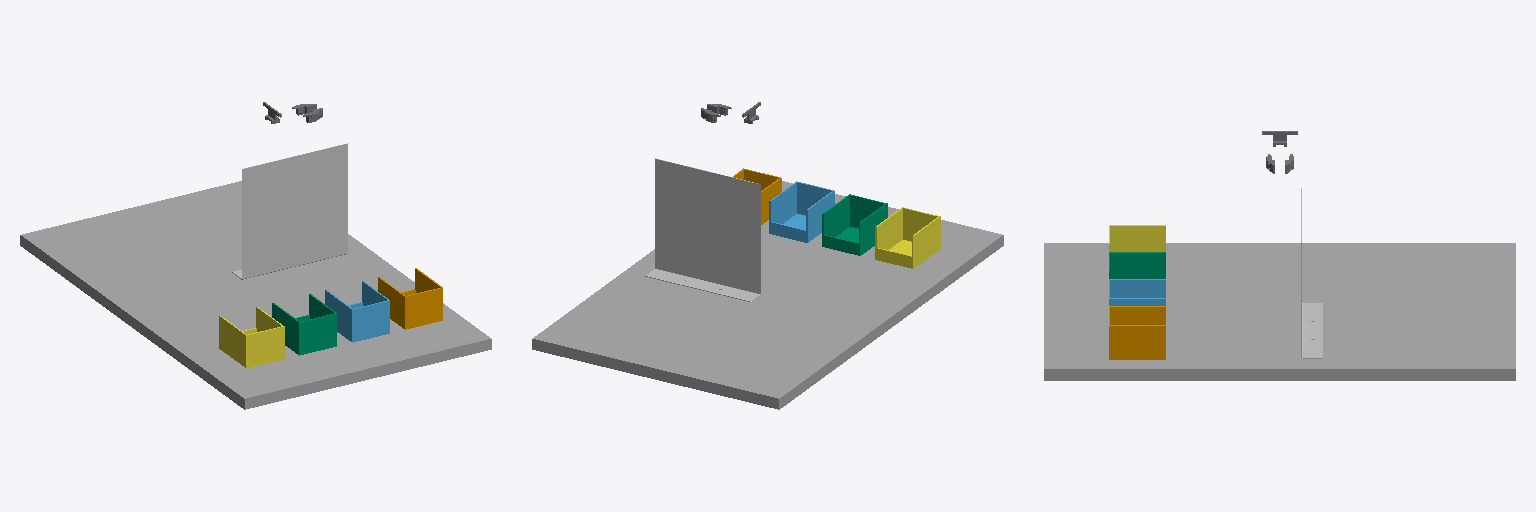
The robot description file, URDF, robot "niryo_ned2":
<?xml version="1.0" encoding="utf-8"?>
<!-- =================================================================================== -->
<!-- |    This document was autogenerated by xacro from niryo_ned2_robot.urdf.xacro    | -->
<!-- |    EDITING THIS FILE BY HAND IS NOT RECOMMENDED                                 | -->
<!-- =================================================================================== -->
<robot name="niryo_ned2">
  <transmission name="transmission_1">
    <type>transmission_interface/SimpleTransmission</type>
    <joint name="joint_1">
      <hardwareInterface>hardware_interface/PositionJointInterface</hardwareInterface>
    </joint>
    <actuator name="motor_1">
      <mechanicalReduction>1</mechanicalReduction>
    </actuator>
  </transmission>
  <transmission name="transmission_2">
    <type>transmission_interface/SimpleTransmission</type>
    <joint name="joint_2">
      <hardwareInterface>hardware_interface/PositionJointInterface</hardwareInterface>
    </joint>
    <actuator name="motor_2">
      <mechanicalReduction>1</mechanicalReduction>
    </actuator>
  </transmission>
  <transmission name="transmission_3">
    <type>transmission_interface/SimpleTransmission</type>
    <joint name="joint_3">
      <hardwareInterface>hardware_interface/PositionJointInterface</hardwareInterface>
    </joint>
    <actuator name="motor_3">
      <mechanicalReduction>1</mechanicalReduction>
    </actuator>
  </transmission>
  <transmission name="transmission_4">
    <type>transmission_interface/SimpleTransmission</type>
    <joint name="joint_4">
      <hardwareInterface>hardware_interface/PositionJointInterface</hardwareInterface>
    </joint>
    <actuator name="motor_4">
      <mechanicalReduction>1</mechanicalReduction>
    </actuator>
  </transmission>
  <transmission name="transmission_5">
    <type>transmission_interface/SimpleTransmission</type>
    <joint name="joint_5">
      <hardwareInterface>hardware_interface/PositionJointInterface</hardwareInterface>
    </joint>
    <actuator name="motor_5">
      <mechanicalReduction>1</mechanicalReduction>
    </actuator>
  </transmission>
  <transmission name="transmission_6">
    <type>transmission_interface/SimpleTransmission</type>
    <joint name="joint_6">
      <hardwareInterface>hardware_interface/PositionJointInterface</hardwareInterface>
    </joint>
    <actuator name="motor_6">
      <mechanicalReduction>1</mechanicalReduction>
    </actuator>
  </transmission>
  <transmission name="transmission_7">
    <type>transmission_interface/SimpleTransmission</type>
    <joint name="joint_base_to_mors_1">
      <hardwareInterface>hardware_interface/EffortJointInterface</hardwareInterface>
    </joint>
    <actuator name="motor_7">
      <mechanicalReduction>1</mechanicalReduction>
    </actuator>
  </transmission>
  <transmission name="transmission_8">
    <type>transmission_interface/SimpleTransmission</type>
    <joint name="joint_base_to_mors_2">
      <hardwareInterface>hardware_interface/EffortJointInterface</hardwareInterface>
    </joint>
    <actuator name="motor_8">
      <mechanicalReduction>1</mechanicalReduction>
    </actuator>
  </transmission>
  <link name="bakje_1">
    <inertial>
      <origin rpy="0 0 0" xyz="0 0 0"/>
      <mass value="0.01"/>
      <inertia ixx="0.00055187" ixy="0.0" ixz="0.0" iyy="0.00073447" iyz="0.0" izz="0.00049414"/>
    </inertial>
    <collision>
      <origin rpy="0 0 0" xyz="0 0 0"/>
      <geometry>
        <mesh filename="package://my_niryo_robot_description/meshes/bakje_colision.stl"/>
      </geometry>
    </collision>
    <visual>
      <origin rpy="0.0 0 0" xyz="0 0 0"/>
      <geometry>
        <mesh filename="package://my_niryo_robot_description/meshes/bakje.dae"/>
      </geometry>
    </visual>
  </link>
  <gazebo reference="bakje_1">
    <mu1>10.0</mu1>
    <mu2>10.0</mu2>
  </gazebo>
  <joint name="bakje_1_joint" type="fixed">
    <parent link="baseplate_link"/>
    <child link="bakje_1"/>
    <origin rpy="0.0 0.0 1.57079632679" xyz="-0.4 -0.3 0.015"/>
  </joint>
  <link name="bakje_2">
    <inertial>
      <origin rpy="0 0 0" xyz="0 0 0"/>
      <mass value="0.01"/>
      <inertia ixx="0.00055187" ixy="0.0" ixz="0.0" iyy="0.00073447" iyz="0.0" izz="0.00049414"/>
    </inertial>
    <collision>
      <origin rpy="0 0 0" xyz="0 0 0"/>
      <geometry>
        <mesh filename="package://my_niryo_robot_description/meshes/bakje_colision.stl"/>
      </geometry>
    </collision>
    <visual>
      <origin rpy="0.0 0 0" xyz="0 0 0"/>
      <geometry>
        <mesh filename="package://my_niryo_robot_description/meshes/bakje.dae"/>
      </geometry>
    </visual>
  </link>
  <gazebo reference="bakje_2">
    <mu1>10.0</mu1>
    <mu2>10.0</mu2>
  </gazebo>
  <joint name="bakje_2_joint" type="fixed">
    <parent link="baseplate_link"/>
    <child link="bakje_2"/>
    <origin rpy="0.0 0.0 1.57079632679" xyz="-0.4 -0.15 0.015"/>
  </joint>
  <link name="bakje_3">
    <inertial>
      <origin rpy="0 0 0" xyz="0 0 0"/>
      <mass value="0.01"/>
      <inertia ixx="0.00055187" ixy="0.0" ixz="0.0" iyy="0.00073447" iyz="0.0" izz="0.00049414"/>
    </inertial>
    <collision>
      <origin rpy="0 0 0" xyz="0 0 0"/>
      <geometry>
        <mesh filename="package://my_niryo_robot_description/meshes/bakje_colision.stl"/>
      </geometry>
    </collision>
    <visual>
      <origin rpy="0.0 0 0" xyz="0 0 0"/>
      <geometry>
        <mesh filename="package://my_niryo_robot_description/meshes/bakje.dae"/>
      </geometry>
    </visual>
  </link>
  <gazebo reference="bakje_3">
    <mu1>10.0</mu1>
    <mu2>10.0</mu2>
  </gazebo>
  <joint name="bakje_3_joint" type="fixed">
    <parent link="baseplate_link"/>
    <child link="bakje_3"/>
    <origin rpy="0.0 0.0 1.57079632679" xyz="-0.4 0 0.015"/>
  </joint>
  <link name="bakje_4">
    <inertial>
      <origin rpy="0 0 0" xyz="0 0 0"/>
      <mass value="0.01"/>
      <inertia ixx="0.00055187" ixy="0.0" ixz="0.0" iyy="0.00073447" iyz="0.0" izz="0.00049414"/>
    </inertial>
    <collision>
      <origin rpy="0 0 0" xyz="0 0 0"/>
      <geometry>
        <mesh filename="package://my_niryo_robot_description/meshes/bakje_colision.stl"/>
      </geometry>
    </collision>
    <visual>
      <origin rpy="0.0 0 0" xyz="0 0 0"/>
      <geometry>
        <mesh filename="package://my_niryo_robot_description/meshes/bakje.dae"/>
      </geometry>
    </visual>
  </link>
  <gazebo reference="bakje_4">
    <mu1>10.0</mu1>
    <mu2>10.0</mu2>
  </gazebo>
  <joint name="bakje_4_joint" type="fixed">
    <parent link="baseplate_link"/>
    <child link="bakje_4"/>
    <origin rpy="0.0 0.0 1.57079632679" xyz="-0.4 0.15 0.015"/>
  </joint>
  <link name="camera_holder">
    <inertial>
      <origin rpy="0 0 0" xyz="0.0 0.0 0.0"/>
      <mass value="0.01"/>
      <inertia ixx="0.00000147" ixy="0.0" ixz="0.0" iyy="0.00000282" iyz="0.0" izz="0.00000387"/>
    </inertial>
    <visual>
      <origin rpy="0 0 0" xyz="0 0 0"/>
      <geometry>
        <mesh filename="package://my_niryo_robot_description/meshes/cameraHouder.dae"/>
      </geometry>
      <material name="">
        <color rgba="0.49804 0.49804 0.49804 1"/>
      </material>
    </visual>
    <collision>
      <origin rpy="0 0 0" xyz="0 0 0"/>
      <geometry>
        <mesh filename="package://my_niryo_robot_description/meshes/cameraHouder_colision.stl"/>
      </geometry>
    </collision>
  </link>
  <link name="camera">
    <inertial>
      <origin rpy="0 0 0" xyz="0.0 0.0 0.0"/>
      <mass value="0.01"/>
      <inertia ixx="0.00000147" ixy="0.0" ixz="0.0" iyy="0.00000282" iyz="0.0" izz="0.00000387"/>
    </inertial>
    <visual>
      <origin rpy="0 0 0" xyz="0 0 0"/>
      <geometry>
        <mesh filename="package://my_niryo_robot_description/meshes/OAK-D.stl"/>
      </geometry>
      <material name="">
        <color rgba="0.49804 0.49804 0.49804 1"/>
      </material>
    </visual>
    <collision>
      <origin rpy="0 0 0" xyz="0 0 0"/>
      <geometry>
        <mesh filename="package://my_niryo_robot_description/meshes/OAK-D.stl"/>
      </geometry>
    </collision>
  </link>
  <!-- Joint from tool_link to base_gripper -->
  <joint name="wrist_to_camera_holder" type="fixed">
    <parent link="wrist_link"/>
    <child link="camera_holder"/>
    <origin rpy="1.57079632679 -1.57079632679 0" xyz="0 0.017 0"/>
  </joint>
  <joint name="holder_to_camera" type="fixed">
    <parent link="camera_holder"/>
    <child link="camera"/>
    <origin rpy="1.57079632679 0 0" xyz="0 -0.0355 -0.025"/>
  </joint>
  <!-- material -->
  <gazebo reference="camera_holder">
    <material>Gazebo/DarkGrey</material>
  </gazebo>
  <!-- Base Gripper -->
  <link name="base_gripper_1">
    <inertial>
      <origin rpy="0 0 0" xyz="0 0 0"/>
      <mass value="0.01"/>
      <inertia ixx="0.00862940" ixy="0.0" ixz="0.0" iyy="0.02072169" iyz="0.0" izz="0.02327580"/>
    </inertial>
    <visual>
      <origin rpy="0 0 0" xyz="0 0 0"/>
      <geometry>
        <mesh filename="package://my_niryo_robot_description/meshes/gripper_base.dae"/>
      </geometry>
    </visual>
    <collision>
      <origin rpy="0 0 0" xyz="0 0 0"/>
      <geometry>
        <mesh filename="package://my_niryo_robot_description/meshes/grippe_base_colision.stl"/>
      </geometry>
    </collision>
  </link>
  <!-- Joint from tool_link to base_gripper -->
  <joint name="joint_to_gripper" type="fixed">
    <parent link="tool_link"/>
    <child link="base_gripper_1"/>
    <origin rpy="0 3.14159265359 -1.57079632679" xyz="-0.016 0 0"/>
  </joint>
  <!-- klep 1 -->
  <link name="mors_1">
    <inertial>
      <origin rpy="0 0 0" xyz="0 0 0"/>
      <mass value="0.01335241"/>
      <inertia ixx="0.00000297" ixy="0.00000068" ixz="0.00000002" iyy="0.00000099" iyz="0.00000010" izz="0.00000282"/>
    </inertial>
    <visual>
      <origin rpy="0 0 0" xyz="0 0 0"/>
      <geometry>
        <mesh filename="package://my_niryo_robot_description/meshes/gripper_left.dae"/>
      </geometry>
      <material name="">
        <color rgba="0.49804 0.49804 0.49804 1"/>
      </material>
    </visual>
    <collision>
      <origin rpy="0 0 0" xyz="0 0 0"/>
      <geometry>
        <mesh filename="package://my_niryo_robot_description/meshes/grippe_left_colision.stl"/>
      </geometry>
    </collision>
  </link>
  <joint name="joint_base_to_mors_1" type="fixed">
    <origin rpy="0 0 0" xyz="-0.0265 0.0425 -0.008"/>
    <parent link="base_gripper_1"/>
    <child link="mors_1"/>
    <!-- <axis xyz="1 0 0"/>
        <limit lower="0"
               upper="0.01"
               effort="1"
               velocity="5"/> -->
  </joint>
  <!-- klep 2 -->
  <link name="mors_2">
    <inertial>
      <origin rpy="0 0 0" xyz="0 0 0"/>
      <mass value="0.01335241"/>
      <inertia ixx="0.00000297" ixy="0.00000068" ixz="0.00000002" iyy="0.00000099" iyz="0.00000010" izz="0.00000282"/>
    </inertial>
    <visual>
      <origin rpy="0 0 0" xyz="0 0 0"/>
      <geometry>
        <mesh filename="package://my_niryo_robot_description/meshes/gripper_right.dae"/>
      </geometry>
      <material name="">
        <color rgba="0.49804 0.49804 0.49804 1"/>
      </material>
    </visual>
    <collision>
      <origin rpy="0 0 0" xyz="0 0 0"/>
      <geometry>
        <mesh filename="package://my_niryo_robot_description/meshes/grippe_right_colision.stl"/>
      </geometry>
    </collision>
  </link>
  <joint name="joint_base_to_mors_2" type="fixed">
    <origin rpy="0 0 0" xyz="0.0255 0.044 -0.008"/>
    <parent link="base_gripper_1"/>
    <child link="mors_2"/>
    <!-- <axis xyz="1 0 0"/>
        <limit lower="-0.01"
               upper="0"
               effort="1"
               velocity="5"/> -->
  </joint>
  <!-- material -->
  <gazebo reference="base_gripper_1">
    <material>Gazebo/DarkGrey</material>
  </gazebo>
  <gazebo reference="mors_1">
    <material>Gazebo/DarkGrey</material>
  </gazebo>
  <gazebo reference="mors_2">
    <material>Gazebo/DarkGrey</material>
  </gazebo>
  <link name="schot">
    <inertial>
      <origin rpy="0 0 0" xyz="0 0 0"/>
      <mass value="0.01"/>
      <inertia ixx="7.58333333333e-05" ixy="0.0" ixz="0.0" iyy="0.00015000000000000001" iyz="0.0" izz="7.50208333333"/>
    </inertial>
    <collision>
      <origin rpy="0 0 0" xyz="0 0 0"/>
      <geometry>
        <mesh filename="package://my_niryo_robot_description/meshes/schot_colision.stl"/>
      </geometry>
    </collision>
    <visual>
      <origin rpy="0.0 0 0" xyz="0 0 0"/>
      <geometry>
        <mesh filename="package://my_niryo_robot_description/meshes/schotv2.dae"/>
      </geometry>
    </visual>
  </link>
  <gazebo reference="schot">
    <mu1>10.0</mu1>
    <mu2>10.0</mu2>
  </gazebo>
  <joint name="fixed" type="fixed">
    <parent link="baseplate_link"/>
    <child link="schot"/>
    <origin rpy="0 0 1.57079632679" xyz="0.1 -0.14 0.015"/>
  </joint>
  <!-- Properties -->
  <!-- Links -->
  <!--
    <link name="world"/>
-->
  <link name="base_link">
    <inertial>
      <origin rpy="0 0 0" xyz="-0.008924 0.0001357 0.052392"/>
      <mass value="0.71142"/>
      <inertia ixx="0.0017" ixy="0.0" ixz="0.0" iyy="0.0017" iyz="0.0" izz="0.0032"/>
    </inertial>
    <visual>
      <origin rpy="0 0 0" xyz="0 0 0"/>
      <geometry>
        <mesh filename="package://niryo_robot_description/meshes/ned2/collada/base_link.dae"/>
      </geometry>
    </visual>
    <collision>
      <origin rpy="-1.5707963268 0 0" xyz="0 0 0"/>
      <geometry>
        <mesh filename="package://niryo_robot_description/meshes/ned2/stl/base_link.stl"/>
      </geometry>
    </collision>
  </link>
  <link name="led_ring_link">
    <!--
        <visual>
            <origin xyz="0 0 0"
                    rpy="0 0 0"/>
            <geometry>
                <cylinder length="0.0019" radius="0.0775"/>
            </geometry>
            <material
                    name="">
                <color
                        rgba="1 1 1 0.25"/>
            </material>
        </visual> -->
  </link>
  <link name="shoulder_link">
    <inertial>
      <origin rpy="0 0 0" xyz="-0.031951 0.0080419 0.030675"/>
      <mass value="0.35056"/>
      <inertia ixx="0.00023875" ixy="2.3853E-08" ixz="2.0596E-06" iyy="0.00032638" iyz="-8.9319E-07" izz="0.00030089"/>
    </inertial>
    <visual>
      <origin rpy="0 0 0" xyz="0 0 0"/>
      <geometry>
        <mesh filename="package://niryo_robot_description/meshes/ned2/collada/shoulder_link.dae"/>
      </geometry>
    </visual>
    <collision>
      <origin rpy="0 0 0" xyz="0 0 0"/>
      <geometry>
        <mesh filename="package://niryo_robot_description/meshes/ned2/stl/shoulder_link.stl"/>
      </geometry>
    </collision>
  </link>
  <link name="arm_link">
    <inertial>
      <origin rpy="0 3.14159265359 0" xyz="-0.00096976 0.086432 0.0038832"/>
      <mass value="1.0838"/>
      <inertia ixx="0.008194" ixy="0.00015602" ixz="-3.434E-06" iyy="0.0011945" iyz="-0.00031298" izz="0.007915"/>
    </inertial>
    <visual>
      <origin rpy="0 3.14159265359 0" xyz="0 0 0"/>
      <geometry>
        <mesh filename="package://niryo_robot_description/meshes/ned2/collada/arm_link.dae"/>
      </geometry>
    </visual>
    <collision>
      <origin rpy="0 3.14159265359 0" xyz="0 0 0"/>
      <geometry>
        <mesh filename="package://niryo_robot_description/meshes/ned2/stl/arm_link.stl"/>
      </geometry>
    </collision>
  </link>
  <link name="elbow_link">
    <inertial>
      <origin rpy="0 3.14159265359 0" xyz="-0.019703 0.037336 -1.7431E-09"/>
      <mass value="0.22126"/>
      <inertia ixx="0.00011754" ixy="-1.2314E-05" ixz="-6.2064E-11" iyy="0.00020851" iyz="9.2393E-11" izz="0.00022753"/>
    </inertial>
    <visual>
      <origin rpy="0 3.14159265359 0" xyz="0 0 0"/>
      <geometry>
        <mesh filename="package://niryo_robot_description/meshes/ned2/collada/elbow_link.dae"/>
      </geometry>
    </visual>
    <collision>
      <origin rpy="0 3.14159265359 0" xyz="0 0 0"/>
      <geometry>
        <mesh filename="package://niryo_robot_description/meshes/ned2/stl/elbow_link.stl"/>
      </geometry>
    </collision>
  </link>
  <link name="forearm_link">
    <inertial>
      <origin rpy="0 0 0" xyz="-0.0049532 7.8351E-06 0.08106"/>
      <mass value="0.35686"/>
      <inertia ixx="0.0013664" ixy="-9.6367E-08" ixz="0.00013594" iyy="0.0014781" iyz="-1.4596E-07" izz="0.00023715"/>
    </inertial>
    <visual>
      <origin rpy="0 0 0" xyz="0 0 0"/>
      <geometry>
        <mesh filename="package://niryo_robot_description/meshes/ned2/collada/forearm_link.dae"/>
      </geometry>
    </visual>
    <collision>
      <origin rpy="0 0 0" xyz="0 0 0"/>
      <geometry>
        <mesh filename="package://niryo_robot_description/meshes/ned2/stl/forearm_link.stl"/>
      </geometry>
    </collision>
  </link>
  <!-- add collision for the motor of joint 5 -->
  <!-- <link name="joint5_motor">
        <inertial>
            <origin xyz="0 0 0.015" rpy="0 0 0"/>
            <mass value="0.203543862275952"/>
            <inertia ixx="0.0015" ixy="0.0" ixz="0.0" iyy="0.0015" iyz="0.0" izz="0.0015"/>
        </inertial>
        <collision>
            <origin xyz="0 0 0.015" rpy="0 0 0"/>
            <geometry>
                <box size="0.047 0.0285 0.03"/>
            </geometry>
        </collision>
    </link> -->
  <link name="wrist_link">
    <inertial>
      <origin rpy="0 0 0" xyz="-0.019666 0.037312 0.0"/>
      <mass value="0.22126"/>
      <inertia ixx="0.0015" ixy="0.0" ixz="0.0" iyy="0.0015" iyz="0.0" izz="0.0015"/>
    </inertial>
    <visual>
      <origin rpy="0 0 0" xyz="0 0 0"/>
      <geometry>
        <mesh filename="package://niryo_robot_description/meshes/ned2/collada/wrist_link.dae"/>
      </geometry>
    </visual>
    <collision>
      <origin rpy="0 0 0" xyz="0 0 0"/>
      <geometry>
        <mesh filename="package://niryo_robot_description/meshes/ned2/stl/wrist_link.stl"/>
      </geometry>
    </collision>
  </link>
  <link name="hand_link">
    <inertial>
      <origin rpy="0 0 0" xyz="0 0 0.009"/>
      <mass value="0.0070027"/>
      <inertia ixx="0.0015" ixy="0.0" ixz="0.0" iyy="0.0015" iyz="0.0" izz="0.0015"/>
    </inertial>
    <visual>
      <origin rpy="0 0 0" xyz="0 0 0"/>
      <geometry>
        <mesh filename="package://niryo_robot_description/meshes/ned2/collada/hand_link.dae"/>
      </geometry>
    </visual>
    <collision>
      <origin rpy="0 0 0" xyz="0 0 0"/>
      <geometry>
        <mesh filename="package://niryo_robot_description/meshes/ned2/stl/hand_link.stl"/>
      </geometry>
    </collision>
  </link>
  <link name="tool_link">
    </link>
  <!-- Joints -->
  <!--
    <joint name="joint_world" type="fixed">
        <parent link="world"/>
        <child link="base_link"/>
        <origin xyz="0 0 0" rpy="0 0 0"/>
    </joint>
-->
  <joint name="joint_1" type="revolute">
    <origin rpy="0 0 -1.5707963268" xyz="0 0 0.1013"/>
    <parent link="base_link"/>
    <child link="shoulder_link"/>
    <axis xyz="0 0 1"/>
    <limit effort="10.0" lower="-2.99987191833" upper="2.99987191833" velocity="10.0"/>
  </joint>
  <joint name="joint_2" type="revolute">
    <origin rpy="1.5707963268 0 1.5707963268" xyz="0 0 0.065"/>
    <parent link="shoulder_link"/>
    <child link="arm_link"/>
    <axis xyz="0 0 1"/>
    <limit effort="10.0" lower="-1.83259571459" upper="0.610167106497" velocity="8.0"/>
  </joint>
  <joint name="joint_3" type="revolute">
    <origin rpy="0 0 0" xyz="0.012 0.221 0"/>
    <parent link="arm_link"/>
    <child link="elbow_link"/>
    <axis xyz="0 0 1"/>
    <limit effort="7.0" lower="-1.34006379968" upper="1.57009819509" velocity="8.0"/>
  </joint>
  <joint name="joint_4" type="revolute">
    <origin rpy="0 1.5707963268 0" xyz="0.065 0.0325 0"/>
    <parent link="elbow_link"/>
    <child link="forearm_link"/>
    <axis xyz="0 0 1"/>
    <limit effort="7.0" lower="-2.09003177926" upper="2.09003177926" velocity="2.0"/>
  </joint>
  <joint name="joint_5" type="revolute">
    <origin rpy="3.14159265359 -1.5707963268 3.14159265359" xyz="0 0 0.17"/>
    <parent link="forearm_link"/>
    <child link="wrist_link"/>
    <axis xyz="0 0 1"/>
    <limit effort="6.0" lower="-1.92003671012" upper="1.92282923692" velocity="2.0"/>
  </joint>
  <joint name="joint_6" type="revolute">
    <origin rpy="0 1.5707963268 0" xyz="0.0197 0.00925 0"/>
    <parent link="wrist_link"/>
    <child link="hand_link"/>
    <axis xyz="0 0 1"/>
    <limit effort="5.0" lower="-2.53002928369" upper="2.53002928369" velocity="2.0"/>
  </joint>
  <joint name="hand_tool_joint" type="fixed">
    <parent link="hand_link"/>
    <child link="tool_link"/>
    <origin rpy="-1.5707963268 -1.5707963268 0" xyz="0 0 0.0285"/>
  </joint>
  <!-- <joint name="joint_test" type="fixed">
        <origin xyz="-0.03 0 0.158" rpy="0 -${PI/2} 0"/>
        <parent link="forearm_link"/>
        <child link="joint5_motor"/>
    </joint> -->
  <joint name="joint_led_ring" type="fixed">
    <parent link="world"/>
    <child link="led_ring_link"/>
    <origin rpy="0 0 0" xyz="0 0 0.0923"/>
  </joint>
  <material name="LightGrey">
    <color rgba="0.7 0.7 0.7 1.0"/>
  </material>
  <material name="blue">
    <color rgba="0 0 0.8 1"/>
  </material>
  <material name="red">
    <color rgba="0.8 0 0 1"/>
  </material>
  <link name="world"/>
  <link name="baseplate_link">
    <visual>
      <origin xyz="0 0 0.0"/>
      <geometry>
        <box size="1.1 0.7 0.03"/>
      </geometry>
      <material name="LightGrey"/>
    </visual>
    <inertial>
      <mass value="10"/>
      <inertia ixx="0.409083333333" ixy="0" ixz="0" iyy="1.00908333333" iyz="0" izz="1.00908333333"/>
    </inertial>
  </link>
  <joint name="baseplate_joint" type="fixed">
    <origin rpy="0.0 0.0 1.57079632679" xyz="0.20 0 0"/>
    <parent link="world"/>
    <child link="baseplate_link"/>
  </joint>
  
world

  
  <!-- robot to baseplate_joint. -->
  <joint name="mountingplate_link" type="fixed">
    <parent link="world"/>
    <child link="base_link"/>
    <origin rpy="0.0 0.0 0" xyz="0.0 0.0 0.021"/>
  </joint>
  <!-- Joint from tool_link to base_gripper -->
  <!--

  <xacro:include filename="$(find my_niryo_robot_description)/urdf/ned/niryo_ned_gripper.urdf.xacro"/>
  <xacro:niryo_ned_gripper/>

    <joint name="joint_to_gripper" type="fixed">
        <parent link="tool_link"/>
        <child link="base_gripper_1"/>
        <origin
                xyz="0 0 0.005"
                rpy="0 ${pi/2} ${pi/2}"/>
    </joint>
  -->
  <!-- tool center point -->
  <link name="tcp_link"/>
  <joint name="tool0_link" type="fixed">
    <parent link="tool_link"/>
    <child link="tcp_link"/>
    <origin rpy="0.0 0.0 0.0" xyz="0.0 0.0 0.0"/>
  </joint>
</robot>

--- Render facts (derived) ---
The picture shows the robot from 3 angles, left to right: view 1: azimuth 30°, elevation 25°; view 2: azimuth 150°, elevation 25°; view 3: azimuth 270°, elevation 25°; orthographic projection.
Robot: niryo_ned2 — 22 links, 21 joints (6 revolute, 15 fixed); root link world; default pose: every joint at zero.
Links seen in each view (by area): view 1: baseplate_link, schot, bakje_4, bakje_2, bakje_1, bakje_3; view 2: baseplate_link, schot, bakje_4, bakje_3, bakje_2, bakje_1; view 3: baseplate_link, bakje_1, bakje_2, bakje_3, bakje_4, schot.
Link boxes in pixels (bbox=[...]): baseplate_link: bbox=[20, 181, 491, 409]; schot: bbox=[232, 143, 347, 279]; bakje_4: bbox=[219, 307, 284, 368]; bakje_2: bbox=[325, 281, 389, 342]; bakje_1: bbox=[378, 268, 442, 329]; bakje_3: bbox=[272, 294, 336, 355]; baseplate_link: bbox=[532, 181, 1003, 409]; schot: bbox=[645, 158, 760, 301]; bakje_4: bbox=[875, 207, 940, 268]; bakje_3: bbox=[822, 194, 887, 255]; bakje_2: bbox=[769, 181, 834, 242]; bakje_1: bbox=[733, 168, 781, 224]; baseplate_link: bbox=[1044, 243, 1515, 380]; bakje_1: bbox=[1109, 306, 1165, 359]; bakje_2: bbox=[1109, 279, 1165, 305]; bakje_3: bbox=[1109, 252, 1165, 278]; bakje_4: bbox=[1109, 225, 1165, 251]; schot: bbox=[1301, 188, 1322, 358].
Bounding box of the posed robot: 0.7 × 1.1 × 0.5018 m (x, y, z).
8 mesh visuals loaded from 14 distinct referenced files (5 Collada DAE); not drawn: 9 (reference not matched to a file when rendering).
